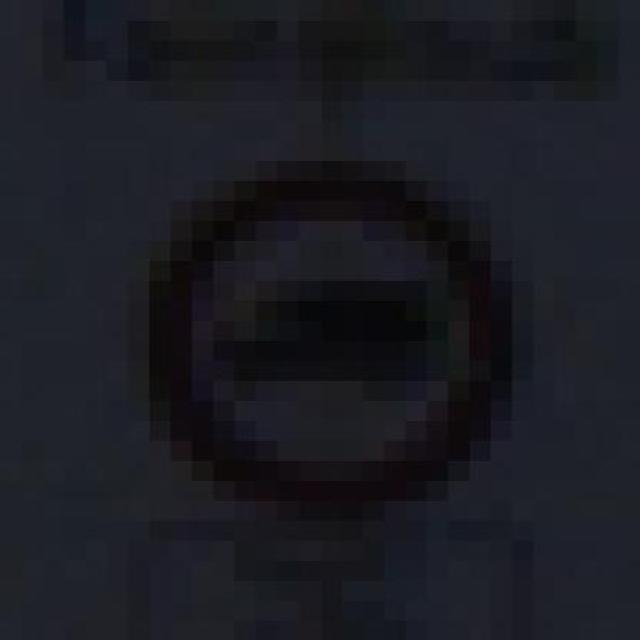Truck traffic is prohibited: (107, 120, 576, 540)
